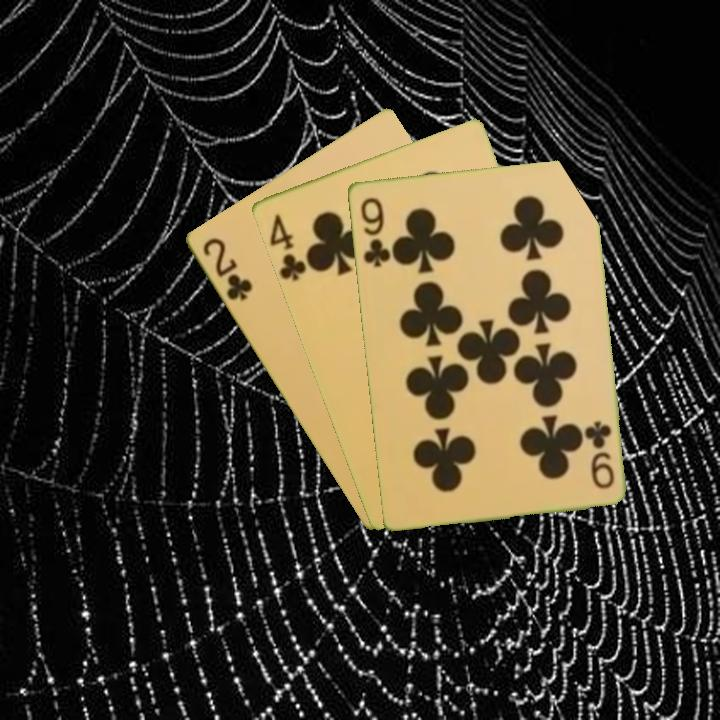2c: (198, 234, 255, 303)
4c: (265, 209, 309, 284)
9c: (356, 193, 392, 270), (582, 417, 617, 492)
